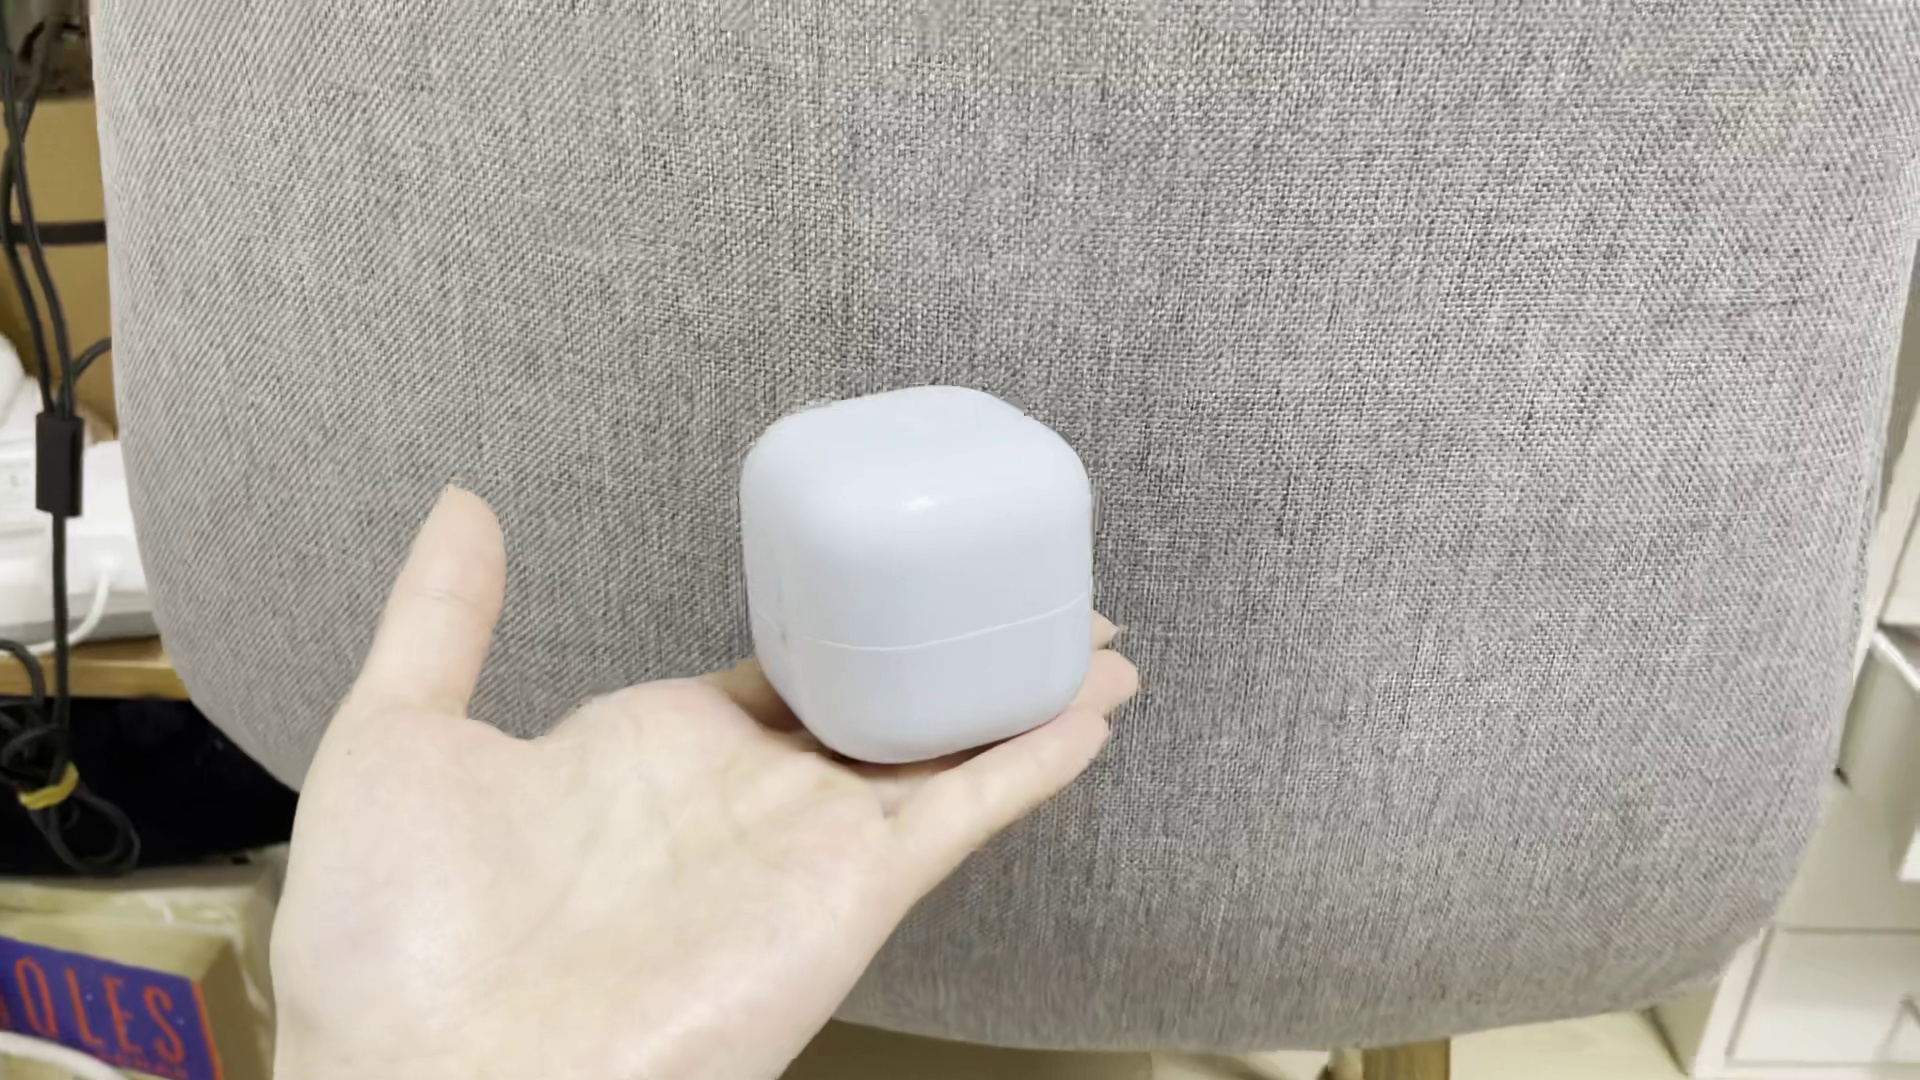cream: (736, 384, 1095, 760)
